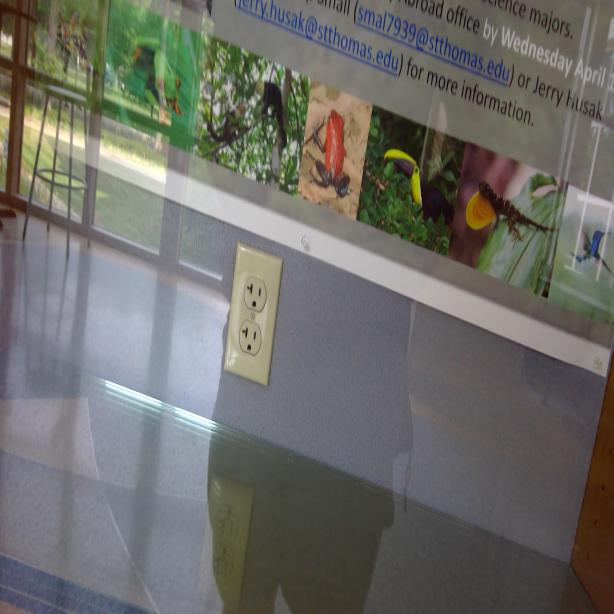typeb: (243, 276, 268, 315), (240, 318, 262, 356)
